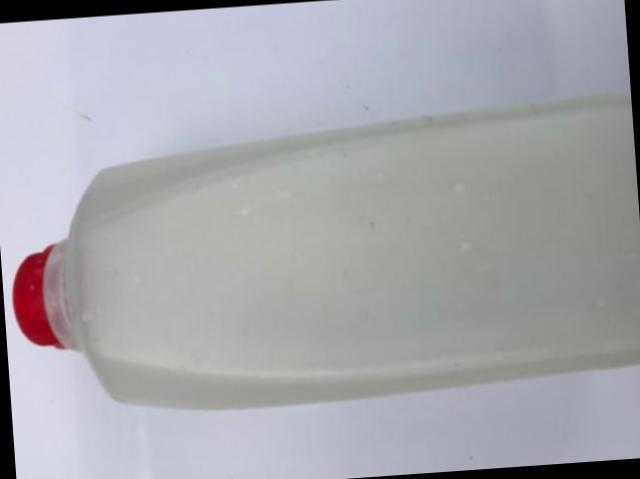plastic: (11, 93, 640, 406)
